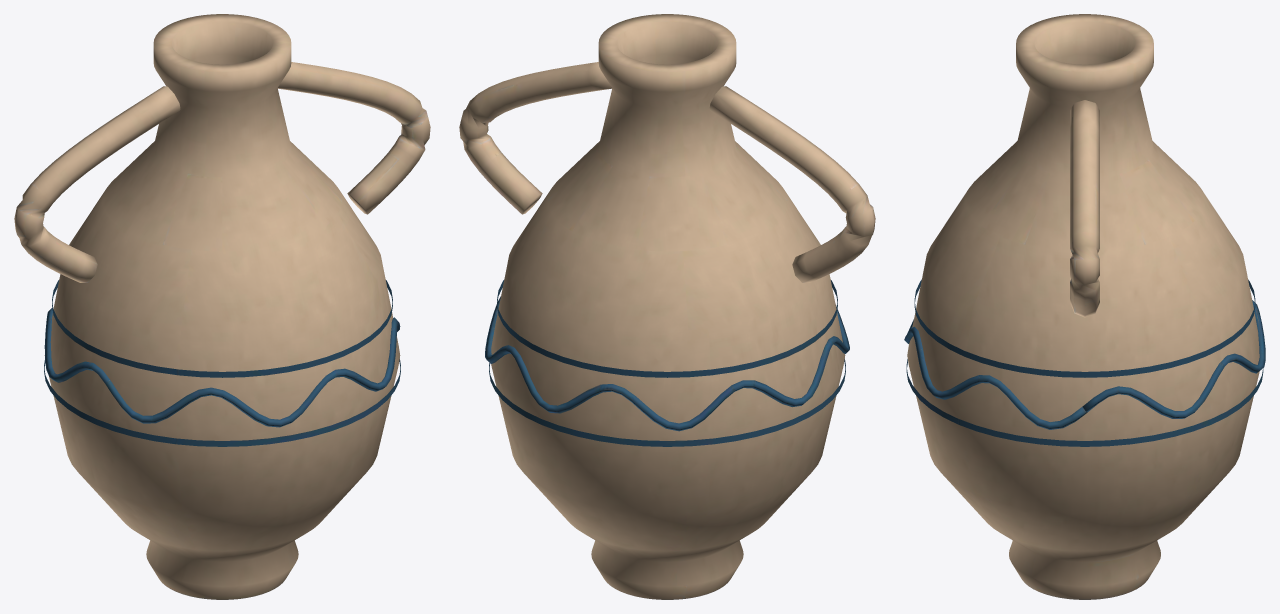
File: amphora.glb
The picture shows the model from 3 angles, left to right: view 1: azimuth 30°, elevation 25°; view 2: azimuth 150°, elevation 25°; view 3: azimuth 270°, elevation 25°; orthographic projection.
Parts seen in each view (by area): view 1: 14 Amphora; view 2: 14 Amphora; view 3: 14 Amphora.
Part boxes in pixels (x1=…): 14 Amphora: x1=14, y1=14, x2=430, y2=599; 14 Amphora: x1=459, y1=14, x2=875, y2=599; 14 Amphora: x1=904, y1=14, x2=1265, y2=599.
Size of the model in its own units: 1.32 by 1.61 by 0.9969.
Materials: 2 (2 with a texture image).
